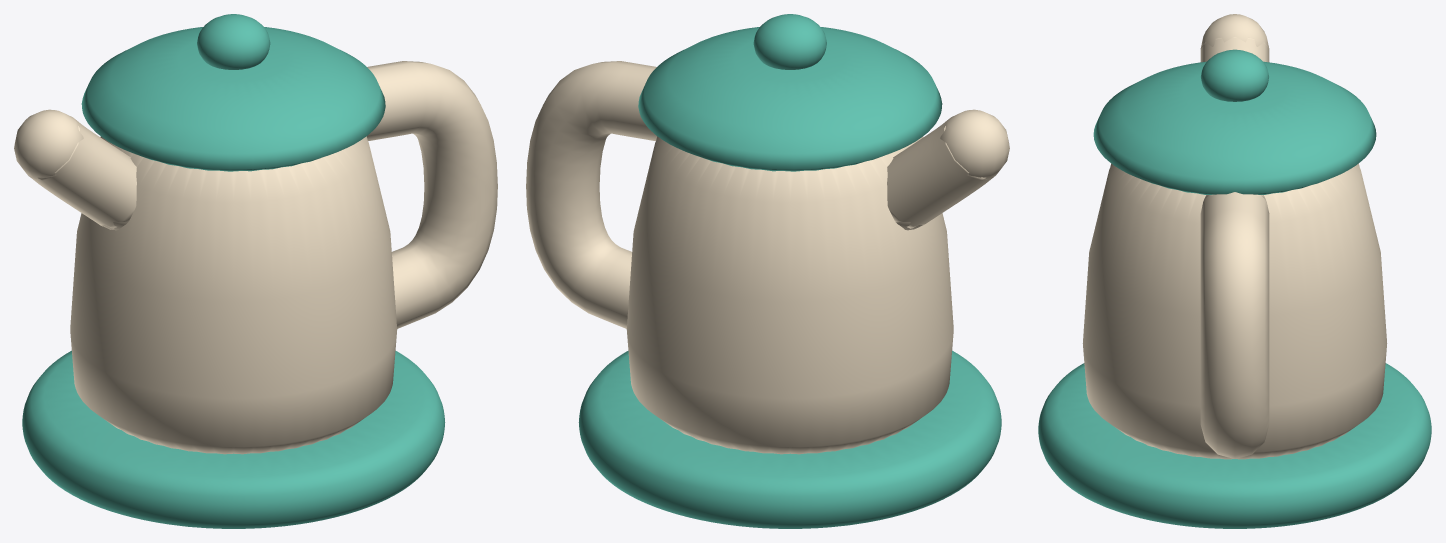
Rendered from kettle_c.glb.
3 renders of one model, left to right at view 1: azimuth 30°, elevation 25°; view 2: azimuth 150°, elevation 25°; view 3: azimuth 270°, elevation 25°, orthographic. The views are drawn at different scales.
Parts seen in each view (by area): view 1: body; view 2: body; view 3: body.
Boxes of the visible parts, box(x1,y1,x2,y2) form: body: box(14, 14, 497, 528); body: box(526, 14, 1009, 528); body: box(1038, 14, 1431, 528).
Size of the model in its own units: 0.2978 by 0.26 by 0.23.
